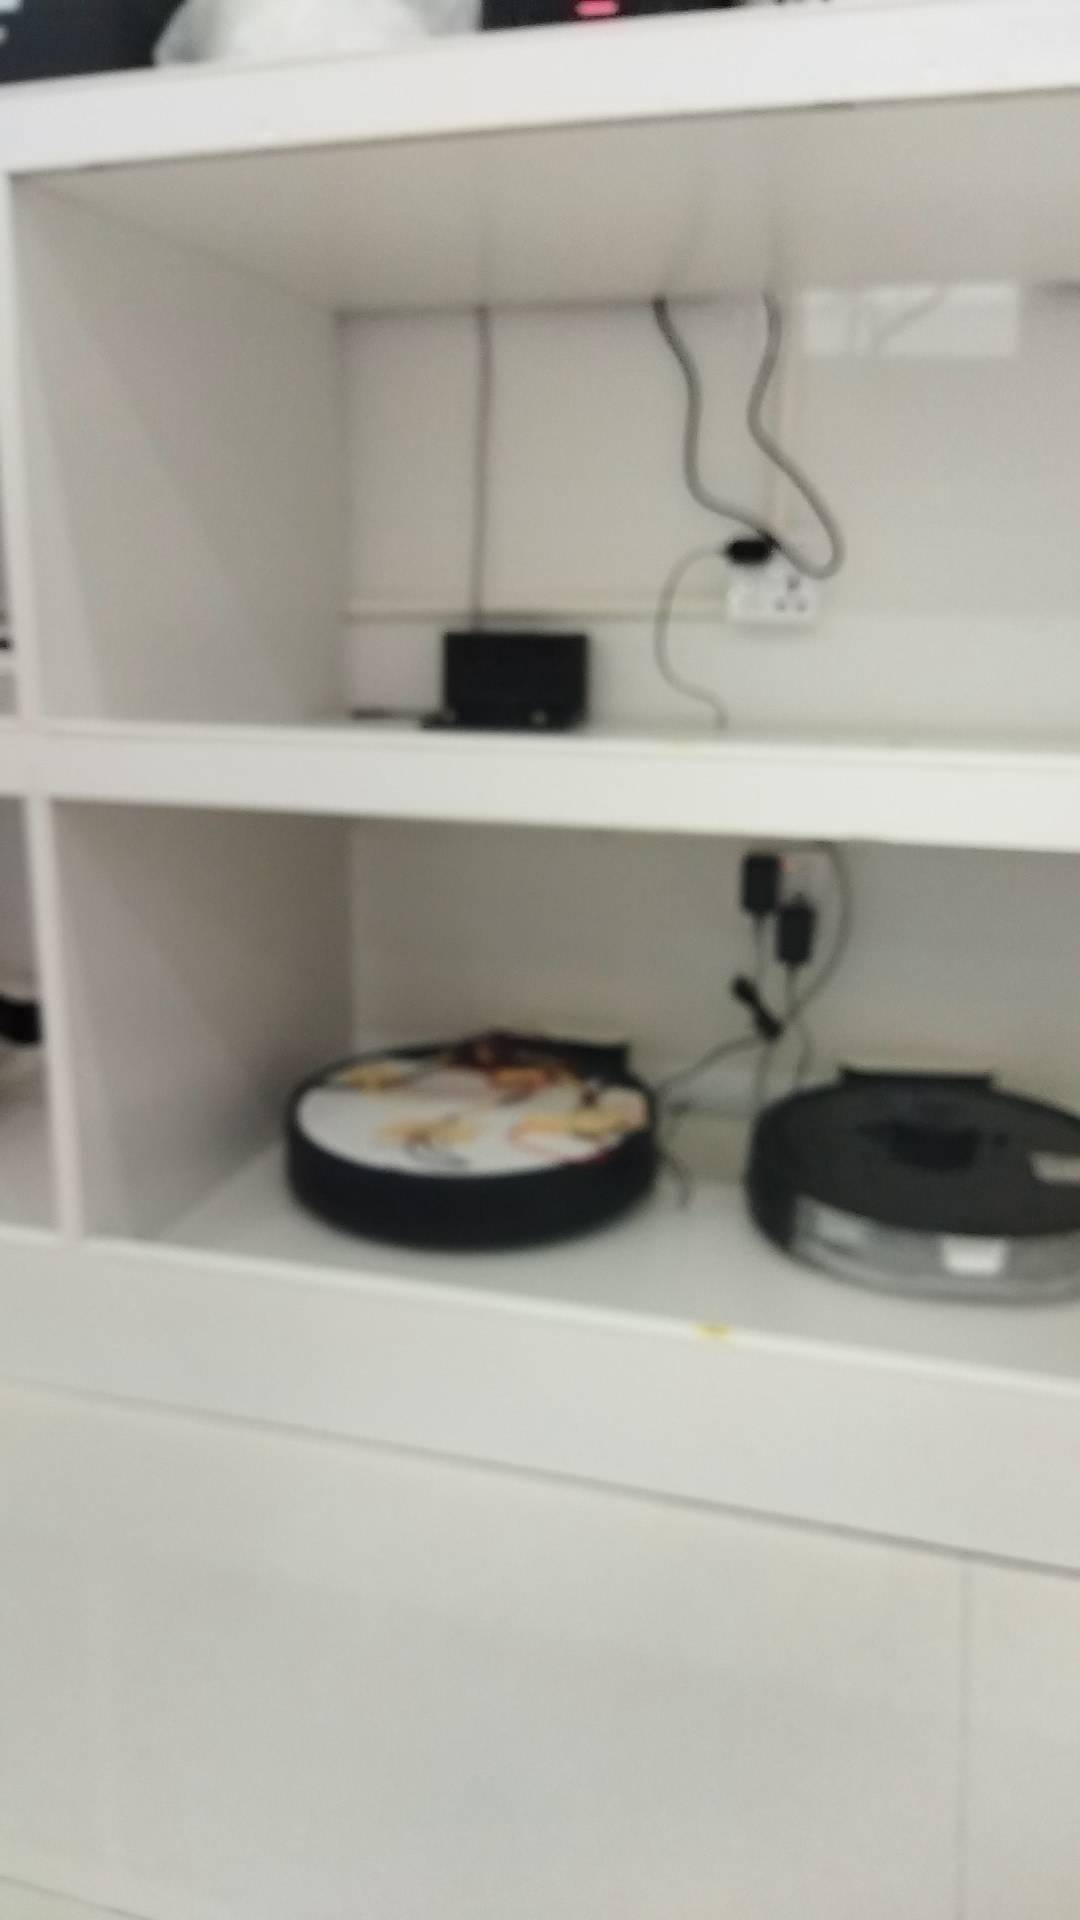recharge seat: (415, 626, 603, 737)
